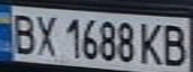1: (60, 15, 81, 60)
6: (78, 16, 100, 61)
8: (115, 18, 139, 64), (97, 17, 118, 62)
B: (6, 10, 39, 55), (160, 20, 190, 68)
K: (136, 19, 166, 66)
X: (30, 11, 60, 57)
